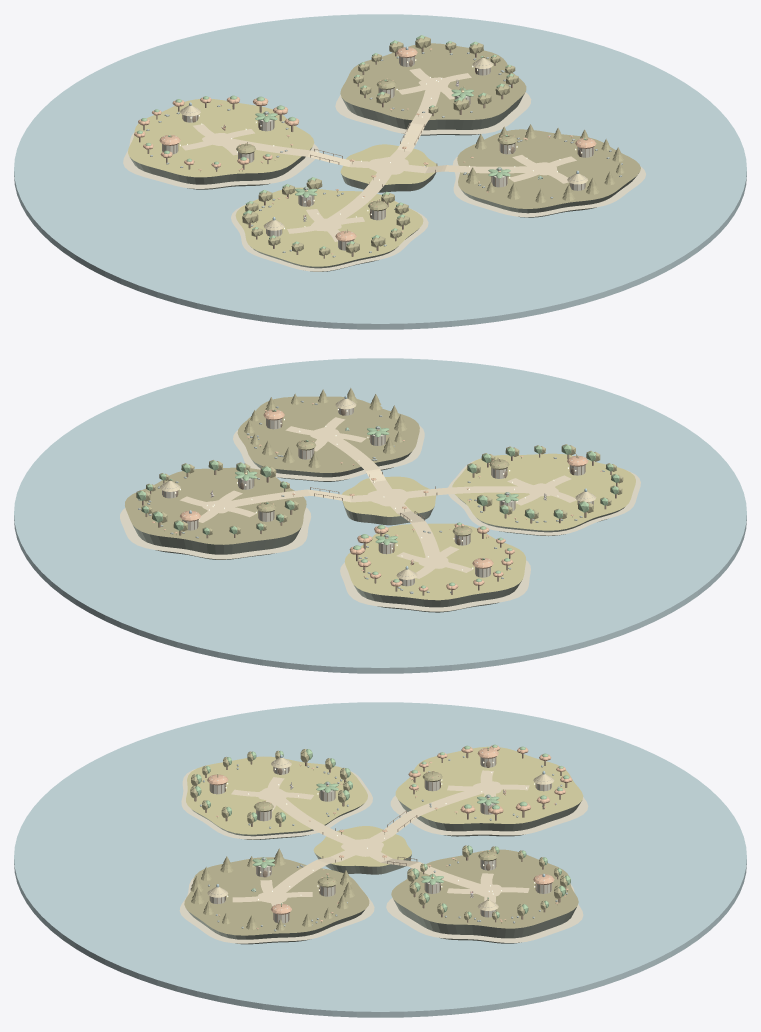
The model's file is grade4-terrain.glb.
The picture shows the model from 3 angles, top to bottom: view 1: azimuth 30°, elevation 25°; view 2: azimuth 150°, elevation 25°; view 3: azimuth 270°, elevation 25°; orthographic projection.
Parts seen in each view (by area): view 1: Nature_water, Walk_Nature_grass, Walk_Nature_deep, Walk_Nature_path, Nature_deep, Nature_sand, Nature_soil, Nature_cream, Nature_flower, Nature_leaf, Nature_wood, Nature_reed; view 2: Nature_water, Walk_Nature_grass, Walk_Nature_deep, Walk_Nature_path, Nature_sand, Nature_soil, Nature_deep, Nature_leaf, Nature_cream, Nature_flower, Nature_wood, Nature_reed; view 3: Nature_water, Walk_Nature_grass, Walk_Nature_deep, Walk_Nature_path, Nature_soil, Nature_sand, Nature_deep, Nature_leaf, Nature_cream, Nature_flower, Nature_wood, Nature_reed.
Boxes of the visible parts, x1,y1,x2,y2 form: Nature_water: [14, 14, 746, 329]; Walk_Nature_grass: [128, 99, 437, 266]; Walk_Nature_deep: [340, 43, 640, 208]; Walk_Nature_path: [181, 68, 576, 241]; Nature_deep: [170, 36, 624, 255]; Nature_sand: [123, 92, 645, 271]; Nature_soil: [130, 93, 638, 271]; Nature_cream: [162, 48, 593, 250]; Nature_flower: [134, 47, 596, 254]; Nature_leaf: [137, 35, 586, 249]; Nature_wood: [139, 47, 593, 258]; Nature_reed: [180, 57, 587, 230]; Nature_water: [14, 358, 746, 673]; Walk_Nature_grass: [342, 453, 635, 600]; Walk_Nature_deep: [125, 396, 419, 544]; Walk_Nature_path: [180, 417, 576, 578]; Nature_sand: [120, 425, 640, 611]; Nature_soil: [133, 452, 624, 612]; Nature_deep: [136, 388, 623, 577]; Nature_leaf: [137, 409, 619, 588]; Nature_cream: [162, 401, 593, 586]; Nature_flower: [152, 403, 602, 591]; Nature_wood: [142, 408, 617, 595]; Nature_reed: [159, 398, 596, 579]; Nature_water: [14, 702, 746, 1017]; Walk_Nature_grass: [186, 746, 583, 866]; Walk_Nature_deep: [184, 849, 578, 935]; Walk_Nature_path: [231, 770, 529, 906]; Nature_soil: [186, 800, 581, 944]; Nature_sand: [179, 769, 588, 943]; Nature_deep: [190, 748, 567, 930]; Nature_leaf: [195, 744, 570, 918]; Nature_cream: [210, 749, 551, 923]; Nature_flower: [207, 745, 572, 928]; Nature_wood: [194, 753, 567, 922]; Nature_reed: [207, 757, 554, 910].
Size of the model in its own units: 170 by 10.98 by 170.
